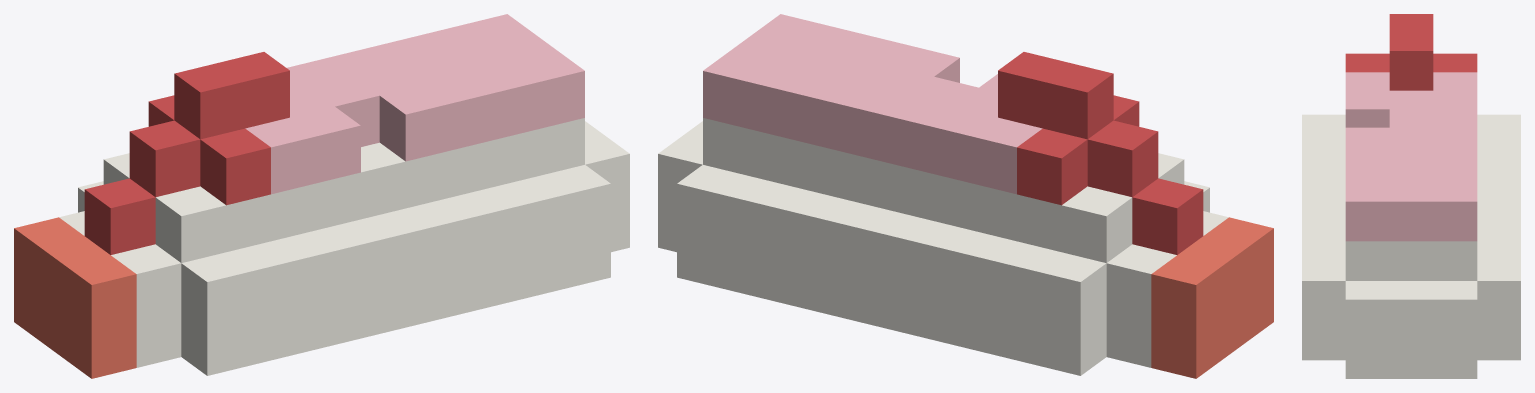
File: comida-2.obj
3 renders of one model, left to right at view 1: azimuth 30°, elevation 25°; view 2: azimuth 150°, elevation 25°; view 3: azimuth 270°, elevation 25°, orthographic. The views are drawn at different scales.
Bounding box in the file's own units: 4.8 × 2 × 2.
Materials: 1 (1 with a texture image).
